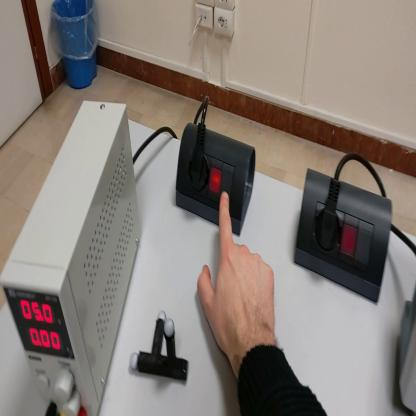hand: (200, 191, 279, 363)
oscilloscope: (395, 289, 415, 414)
power supply: (2, 93, 143, 416)
socket: (292, 172, 394, 308), (175, 123, 256, 236)
